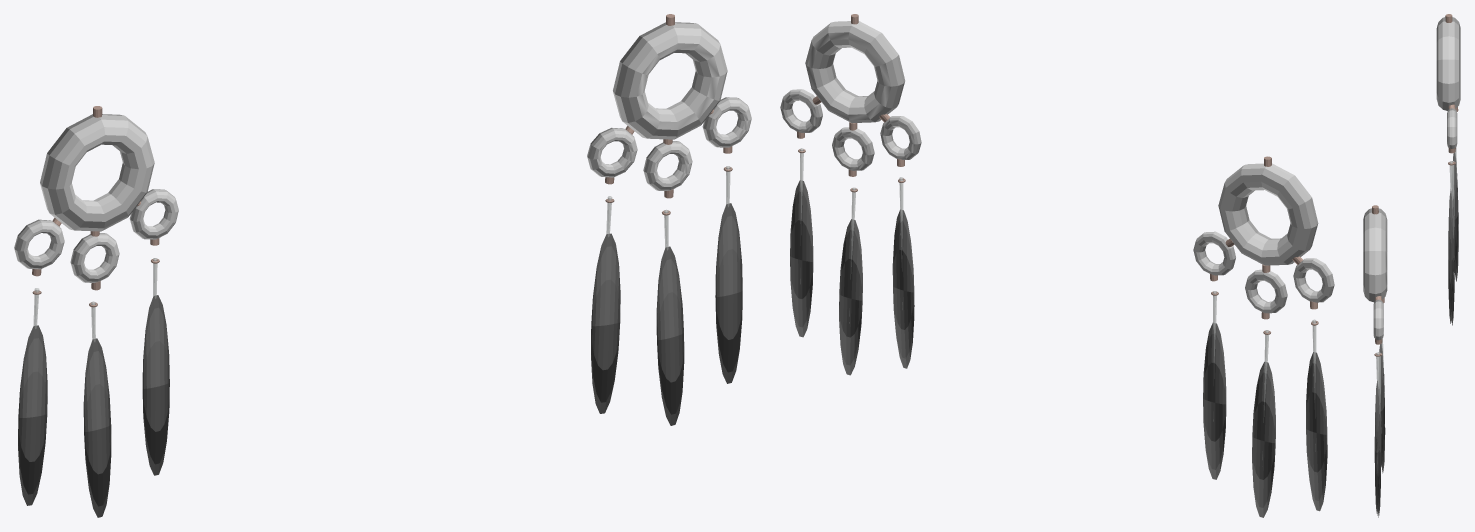
File: earrings1.glb
3 views of the same model, side by side, from view 1: azimuth 30°, elevation 25°; view 2: azimuth 150°, elevation 25°; view 3: azimuth 270°, elevation 25° (orthographic). The views are drawn at different scales.
Parts seen in each view (by area): view 1: model.001, model; view 2: model.001, model; view 3: model.001, model.
Boxes of the visible parts, x1,y1,x2,y2 form: model.001: [14, 106, 178, 517]; model: [587, 14, 751, 425]; model.001: [1193, 156, 1334, 517]; model: [780, 14, 921, 375]; model.001: [1436, 14, 1460, 325]; model: [1363, 205, 1387, 517].
Bounding box in the file's own units: 1.51 × 0.8707 × 0.249.
